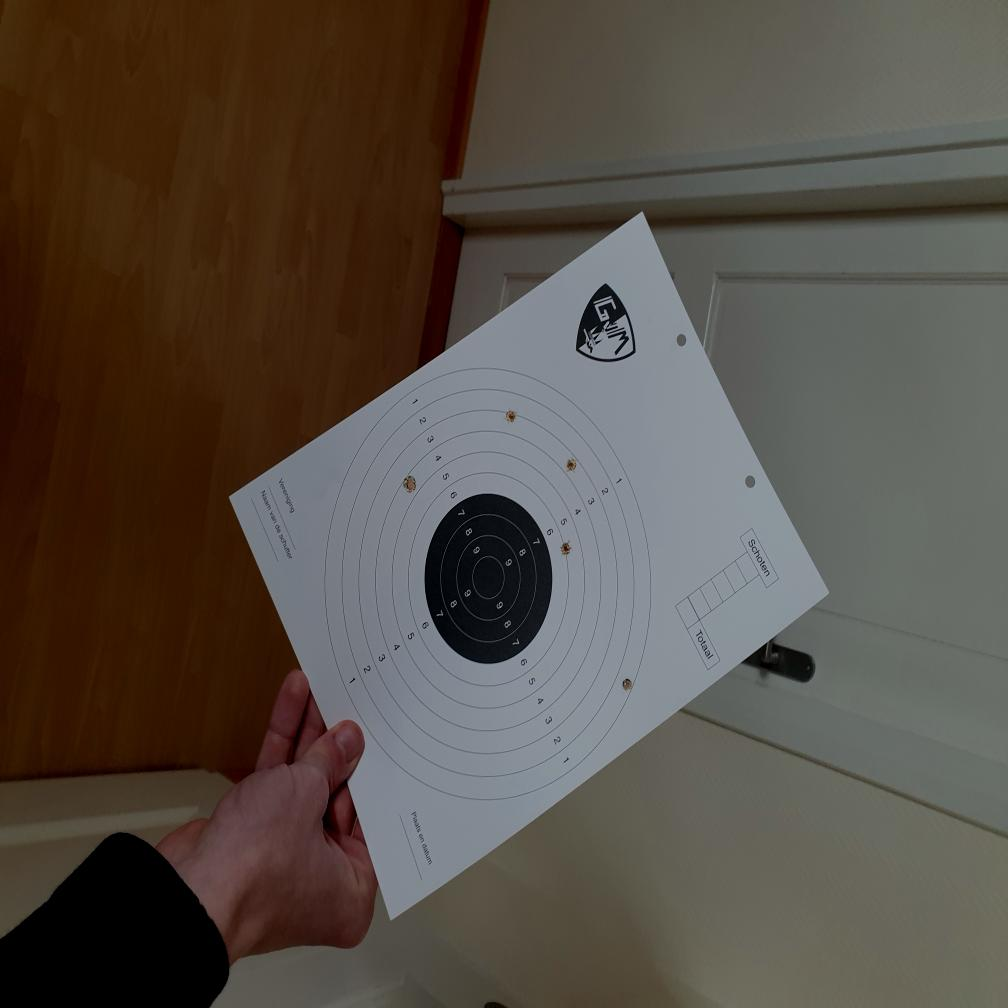1: (622, 678, 634, 692)
3: (505, 409, 517, 424), (566, 457, 577, 473)
4: (403, 475, 417, 494)
6: (560, 540, 572, 555)
Target: (322, 369, 654, 804)
black_contour: (425, 493, 552, 665)
